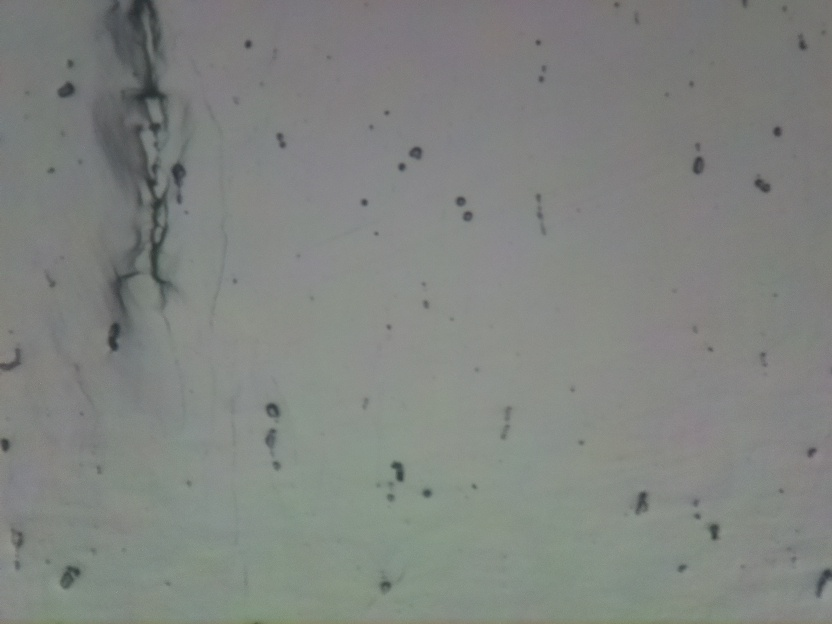crack: (131, 128, 177, 311)
